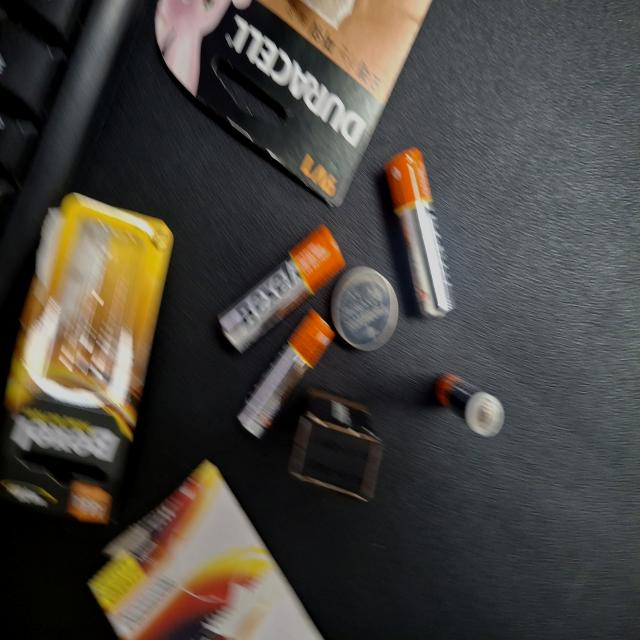9V: (292, 342, 376, 468)
AA: (170, 394, 264, 562), (111, 249, 237, 339)
AAA: (232, 406, 328, 536), (280, 181, 328, 273)
COIN: (200, 322, 263, 412)
